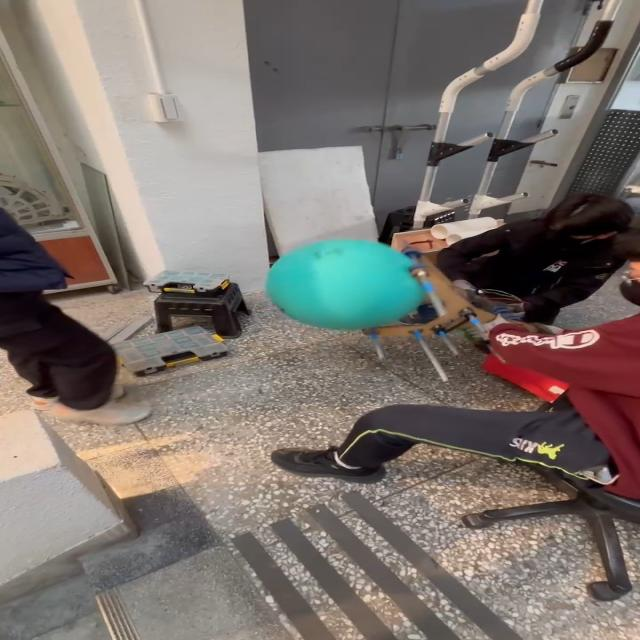ALGAE: (263, 237, 427, 331)
